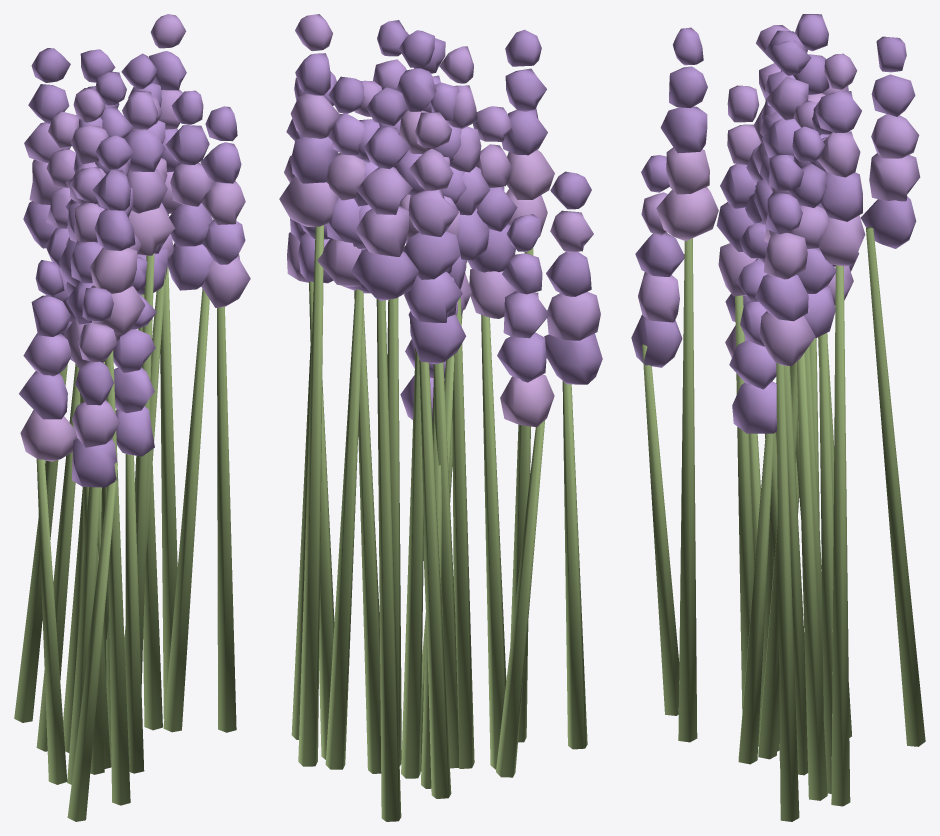
The model's file is lavender_1.glb.
3 views of the same model, side by side, from view 1: azimuth 30°, elevation 25°; view 2: azimuth 150°, elevation 25°; view 3: azimuth 270°, elevation 25° (orthographic). The views are drawn at different scales.
Parts seen in each view (by area): view 1: lavender; view 2: lavender; view 3: lavender.
Boxes of the visible parts, box(x1,y1,x2,y2) form: lavender: box(14, 14, 250, 821); lavender: box(279, 14, 602, 821); lavender: box(631, 14, 925, 821).
Size of the model in its own units: 0.2197 by 0.6359 by 0.2273.
